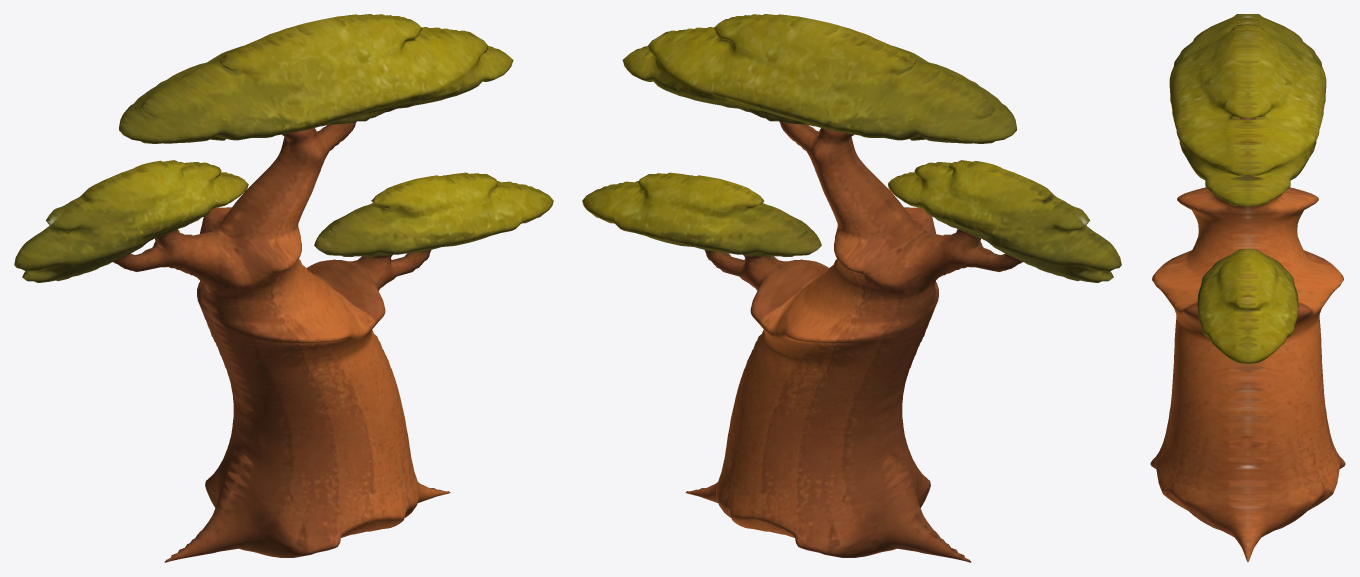
File: 22_trees_a_r01_c01.glb
3 views of the same model, side by side, from view 1: azimuth 30°, elevation 25°; view 2: azimuth 150°, elevation 25°; view 3: azimuth 270°, elevation 25° (orthographic). The views are drawn at different scales.
Parts seen in each view (by area): view 1: 22_trees_a_r01_c01; view 2: 22_trees_a_r01_c01; view 3: 22_trees_a_r01_c01.
Part boxes in pixels (left/top/right/bottom): 22_trees_a_r01_c01: left=14, top=14, right=553, bottom=562; 22_trees_a_r01_c01: left=582, top=14, right=1121, bottom=562; 22_trees_a_r01_c01: left=1150, top=14, right=1345, bottom=561.
Bounding box in the file's own units: 5.74 × 5.15 × 2.01.
Materials: 1 (1 with a texture image).
